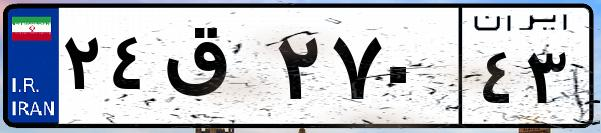0: (385, 28, 445, 110)
2: (270, 28, 330, 110), (57, 26, 110, 100)
3: (525, 38, 570, 115)
4: (475, 38, 525, 113), (110, 28, 158, 98)
7: (330, 28, 385, 110)
ق: (158, 20, 270, 120)
